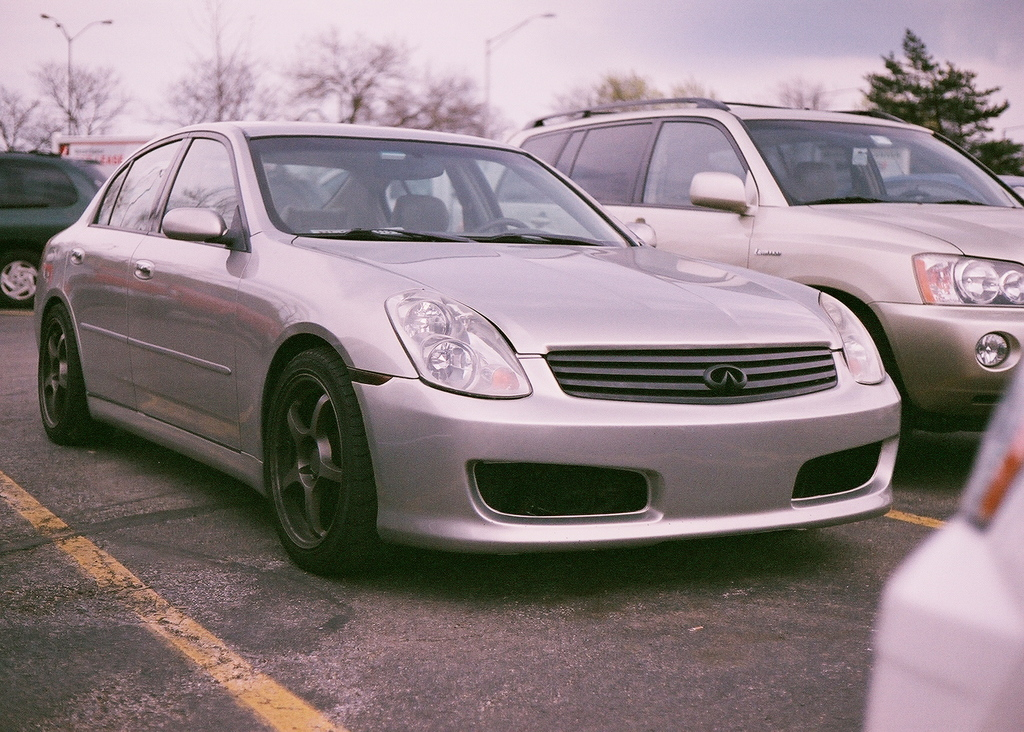Tree: (0, 0, 1024, 176)
